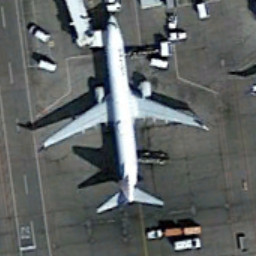Airplane: (27, 9, 217, 223)
